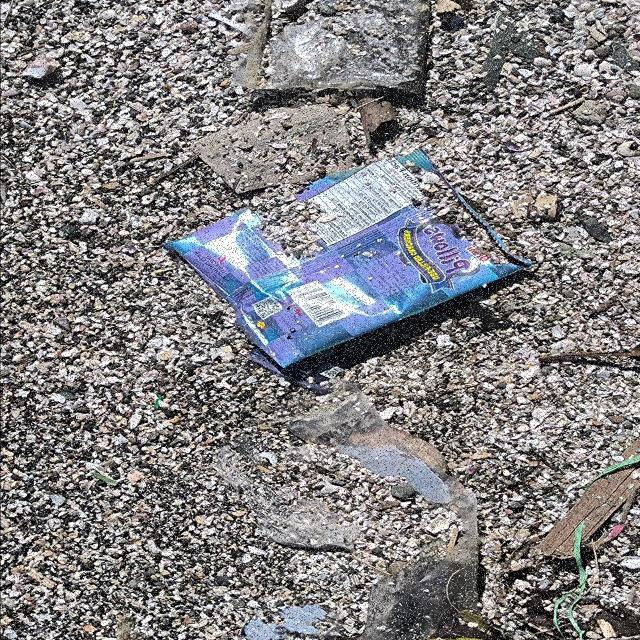plastic_waste: (161, 151, 534, 369)
